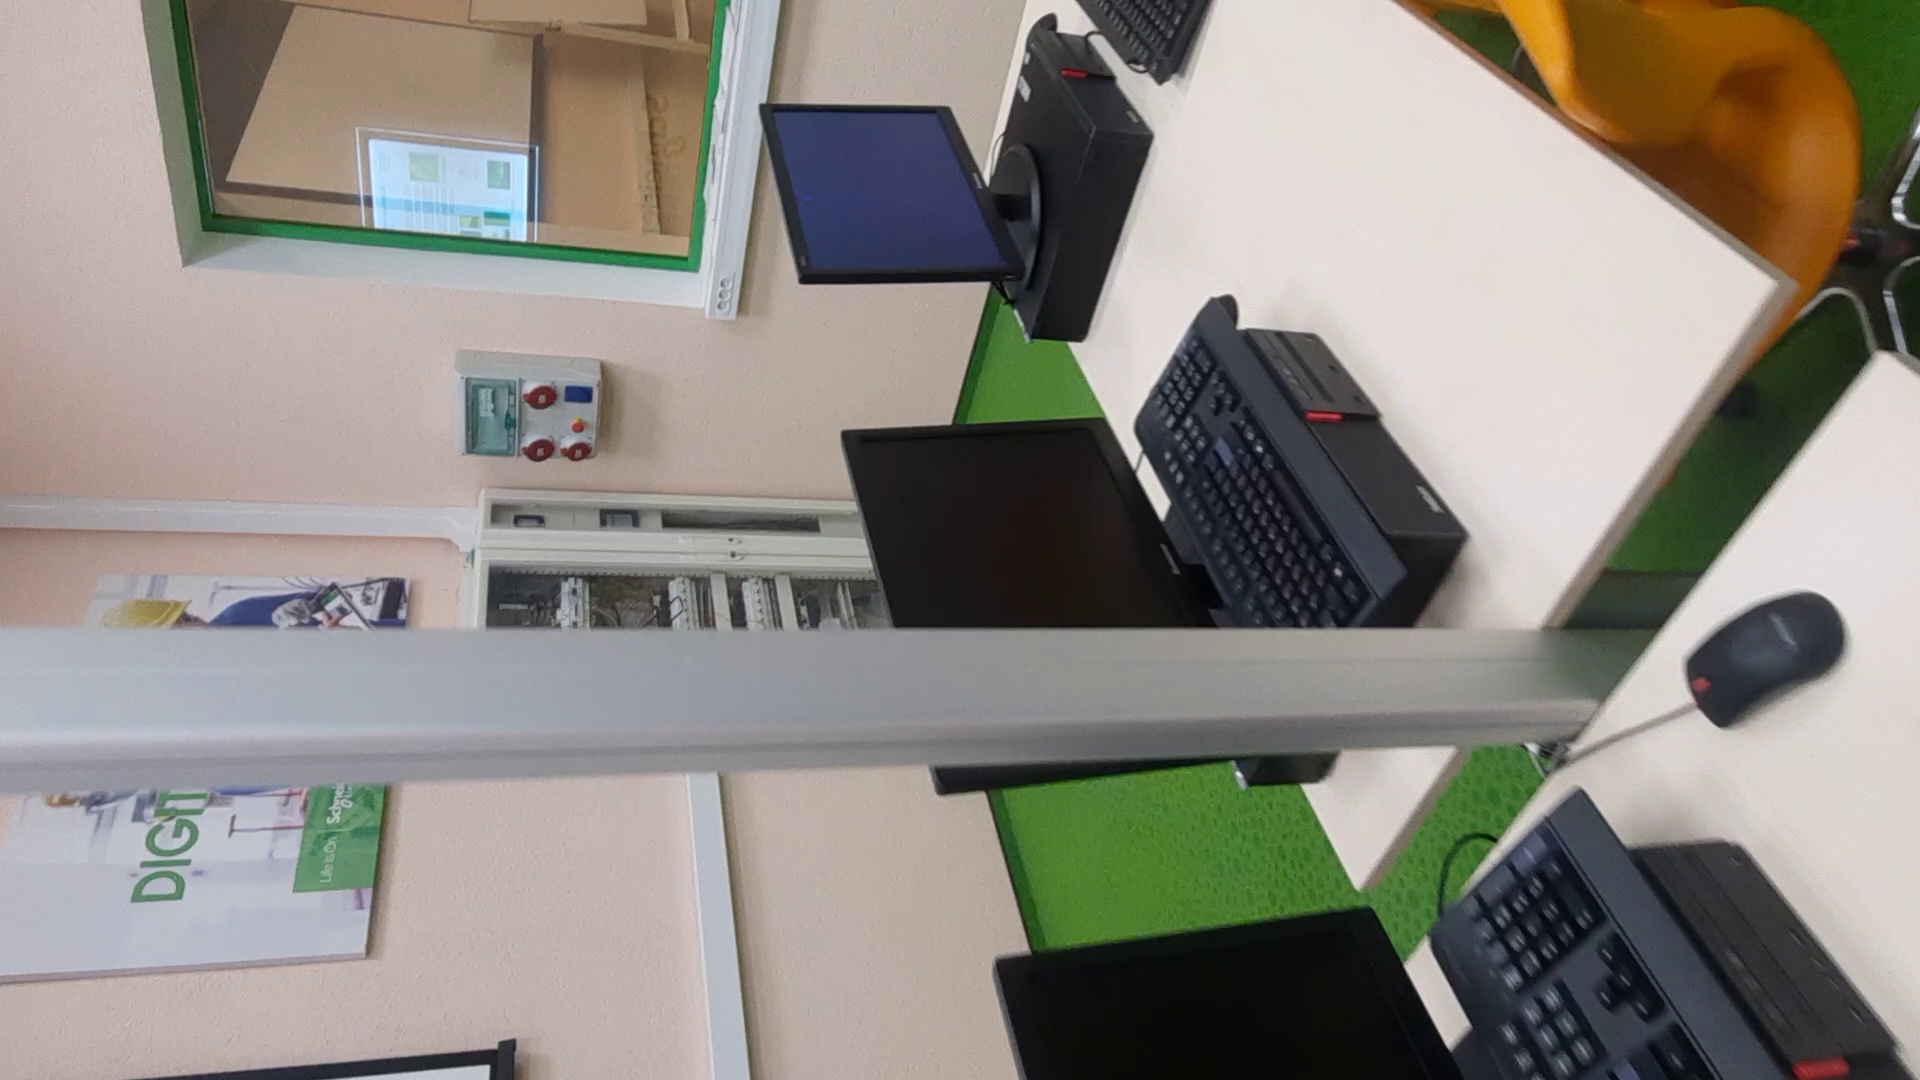stand1: (458, 484, 876, 629)
